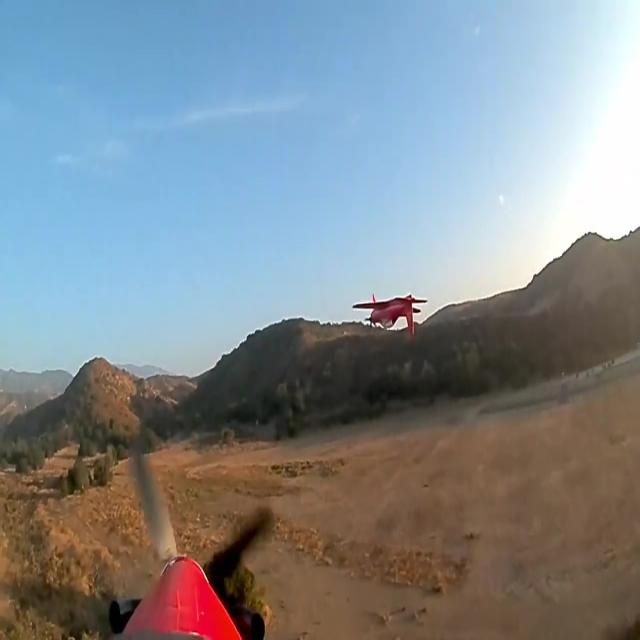iha: (384, 293, 396, 341)
